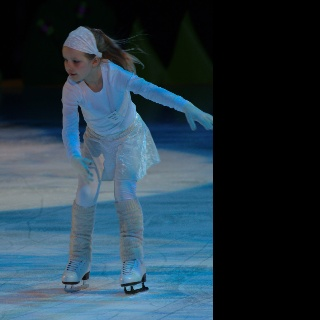without_mask: (62, 45, 97, 83)
